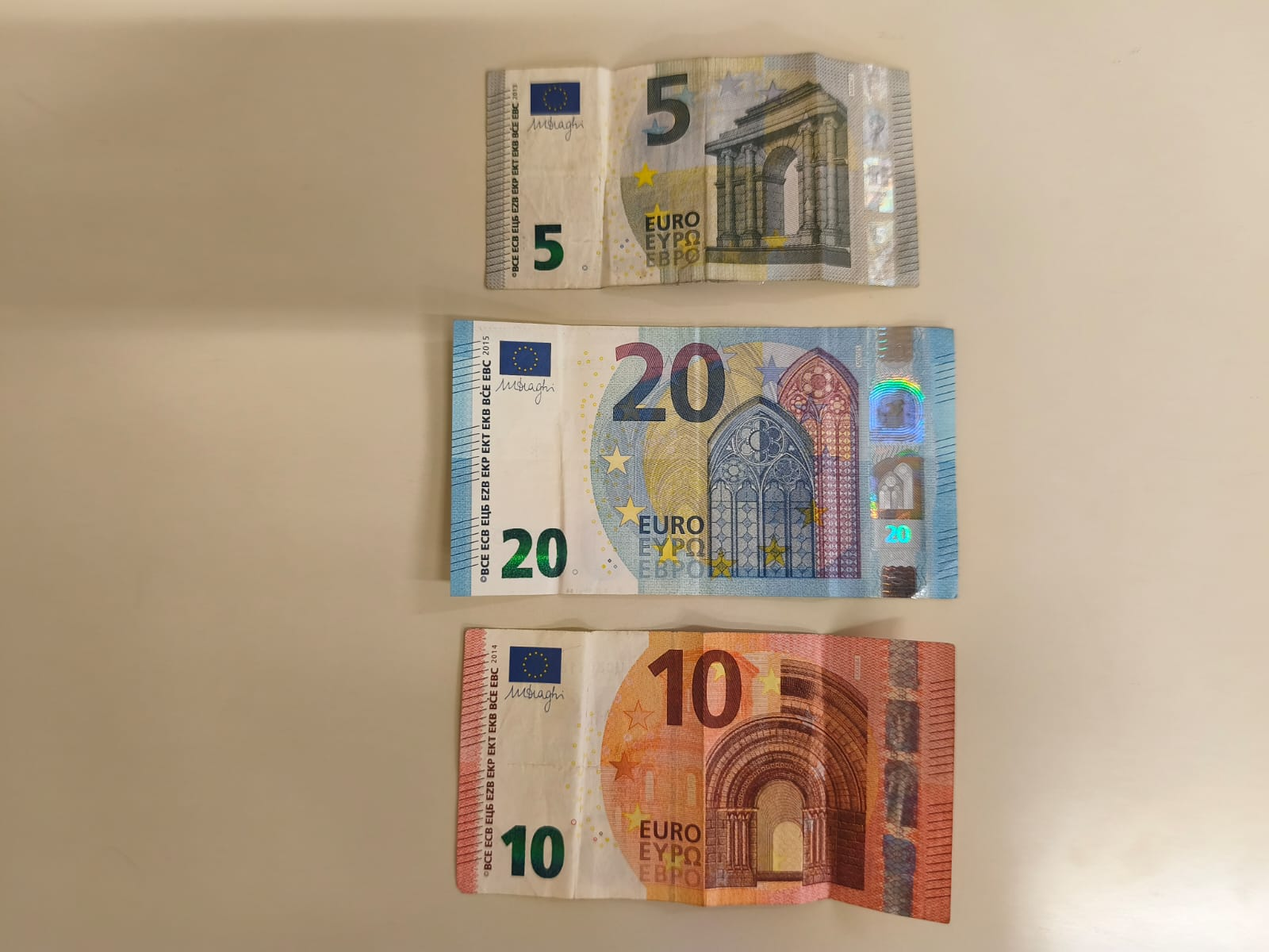Nota de 10€: (447, 613, 962, 930)
Nota de 20€: (430, 309, 969, 605)
Nota de 5€: (471, 43, 926, 296)
